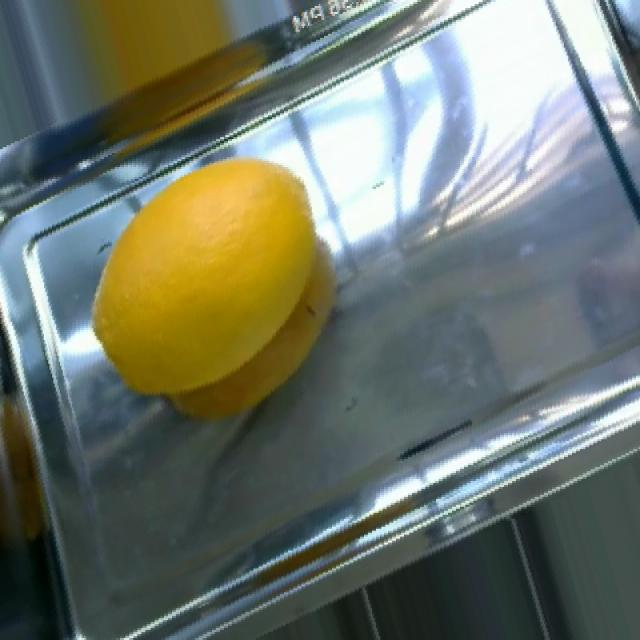Fruit: (80, 141, 348, 435), (29, 2, 264, 159)
